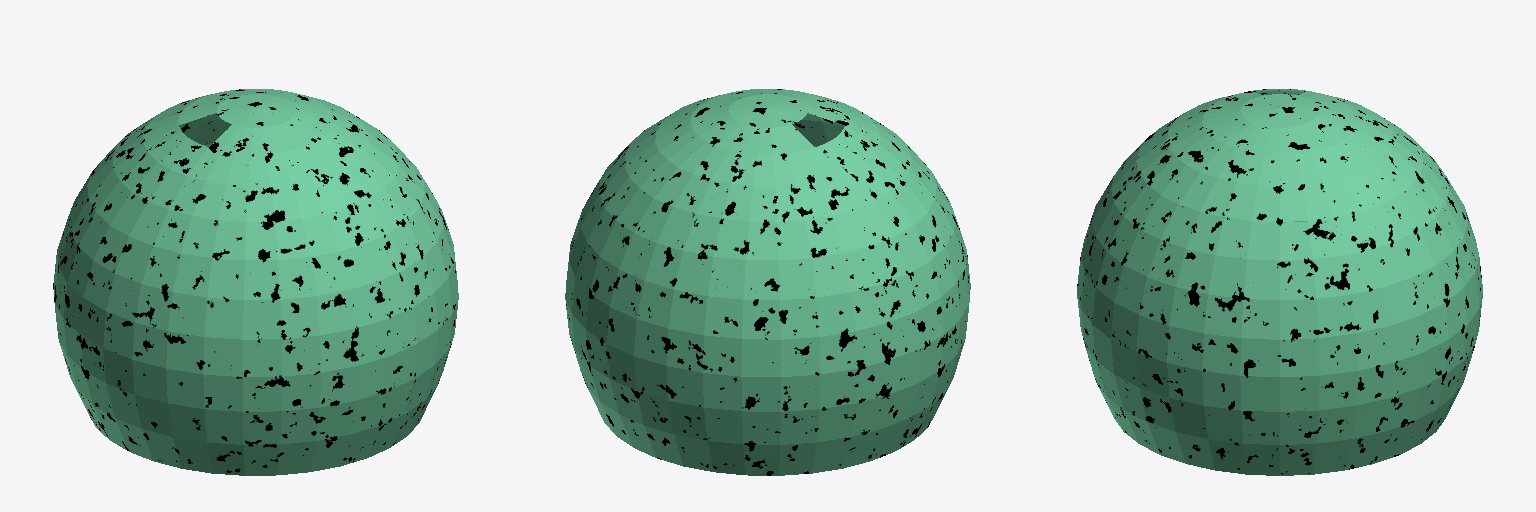
3 renders of one model, left to right at view 1: azimuth 30°, elevation 25°; view 2: azimuth 150°, elevation 25°; view 3: azimuth 270°, elevation 25°, orthographic.
Parts seen in each view (by area): view 1: base_outside_wall; view 2: base_outside_wall; view 3: base_outside_wall.
Boxes of the visible parts, box(x1,y1,x2,y2) form: base_outside_wall: box(53, 89, 458, 475); base_outside_wall: box(565, 89, 970, 475); base_outside_wall: box(1077, 89, 1482, 475).
Bounding box in the file's own units: 31.77 × 25.63 × 31.77.
Materials: 1 (1 with a texture image).